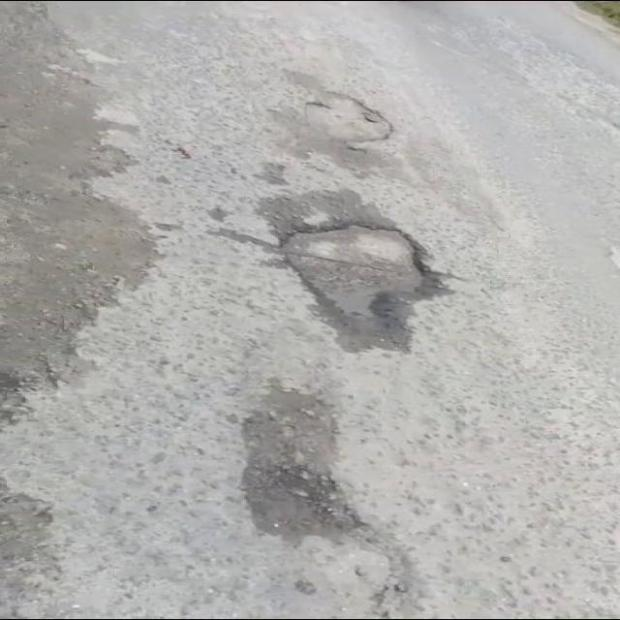lubang: (0, 2, 154, 424), (242, 389, 364, 543), (281, 224, 439, 330), (0, 478, 77, 617), (274, 71, 391, 148)
